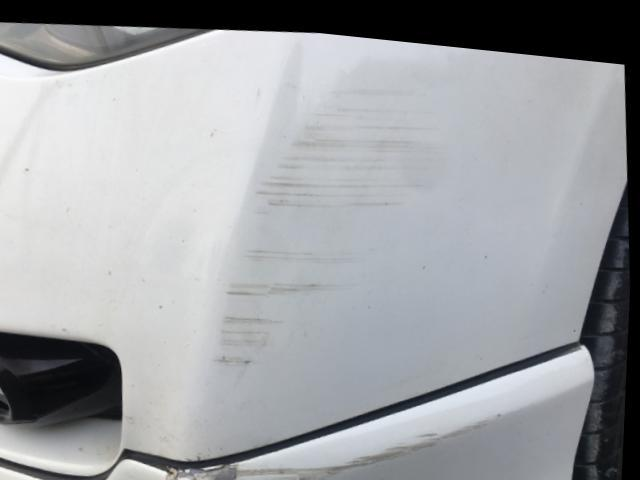scratch: (218, 64, 452, 365), (168, 399, 511, 480)
